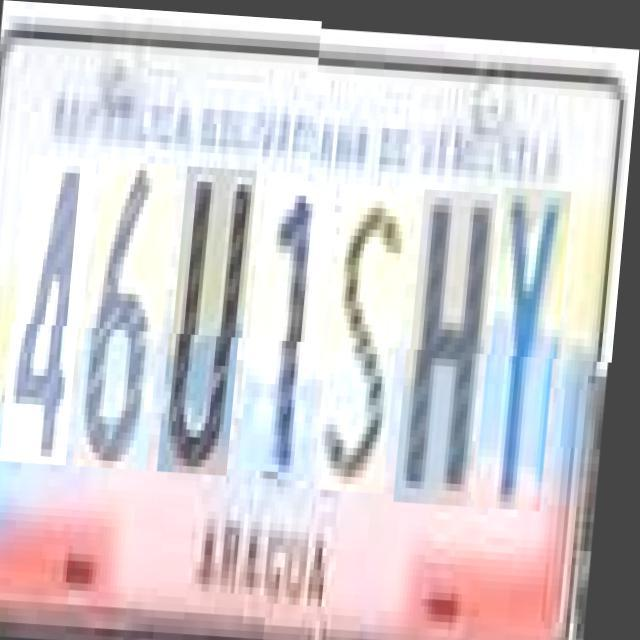1: (250, 174, 340, 476)
4: (12, 162, 98, 471)
6: (84, 166, 178, 475)
H: (406, 183, 501, 500)
S: (326, 178, 416, 488)
U: (168, 170, 260, 480)
Y: (486, 180, 574, 503)
